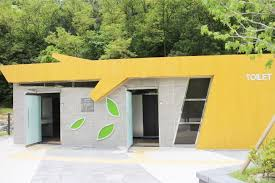guide_blocks: (20, 155, 245, 163)
